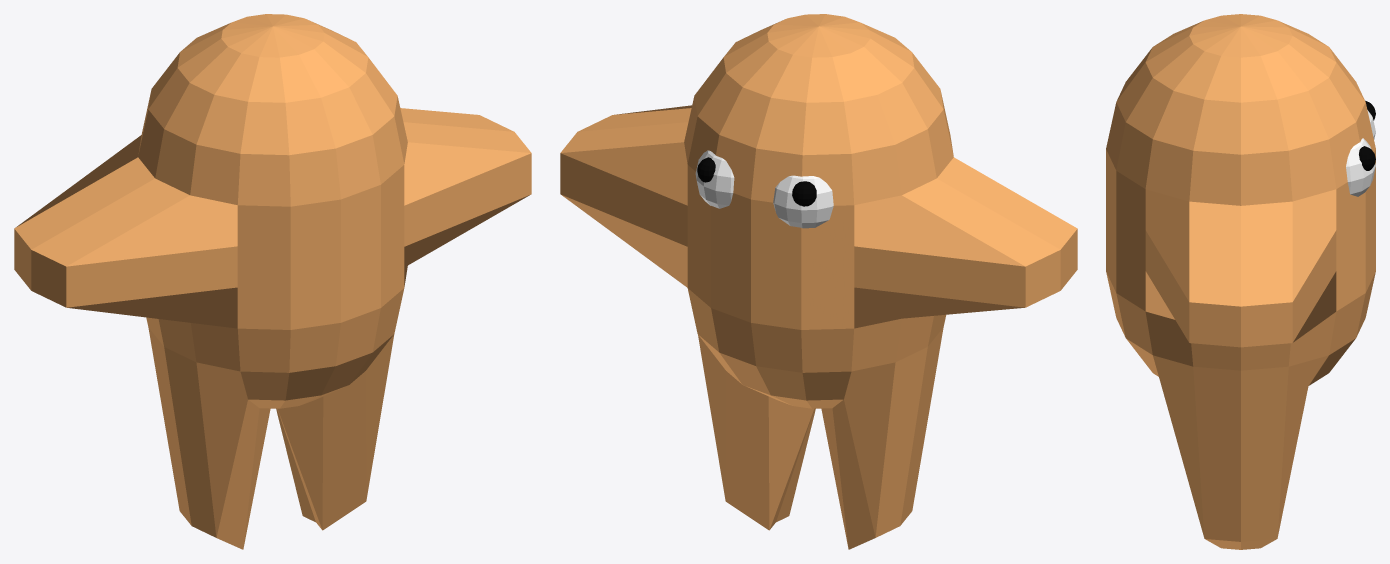
Rendered from human.fbx.
3 views of the same model, side by side, from view 1: azimuth 30°, elevation 25°; view 2: azimuth 150°, elevation 25°; view 3: azimuth 270°, elevation 25° (orthographic).
Parts seen in each view (by area): view 1: 구체; view 2: 구체, 구체.002, 구체.005; view 3: 구체, 구체.002, 구체.005.
Part boxes in pixels (x1,y1,x2,y2): 구체: [14, 14, 531, 549]; 구체: [560, 14, 1077, 549]; 구체.002: [695, 150, 833, 228]; 구체.005: [697, 157, 816, 206]; 구체: [1106, 14, 1375, 549]; 구체.002: [1346, 110, 1375, 196]; 구체.005: [1359, 100, 1375, 170].
Bounding box in the file's own units: 410 × 411 × 200.
